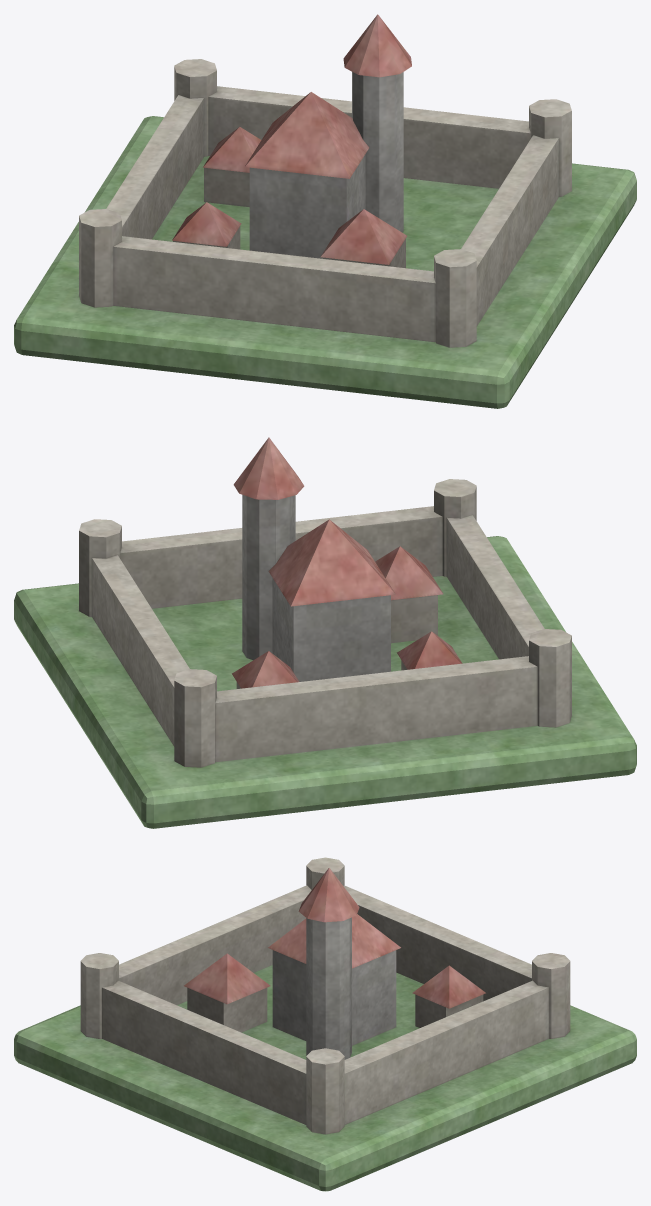
The model's file is city.glb.
3 views of the same model, one above another, from view 1: azimuth 30°, elevation 25°; view 2: azimuth 150°, elevation 25°; view 3: azimuth 270°, elevation 25° (orthographic). The views are drawn at different scales.
Visible parts, largest first — view 1: dilek; view 2: dilek; view 3: dilek.
Boxes of the visible parts, box(x1,y1,x2,y2) form: dilek: box(14, 14, 636, 408); dilek: box(14, 437, 636, 828); dilek: box(14, 857, 636, 1191).
Size of the model in its own units: 2.42 by 0.94 by 2.42.
Materials: 1 (1 with a texture image).
